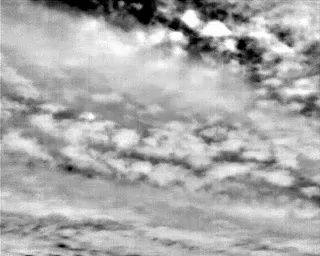BIRD: (134, 74, 145, 85)
